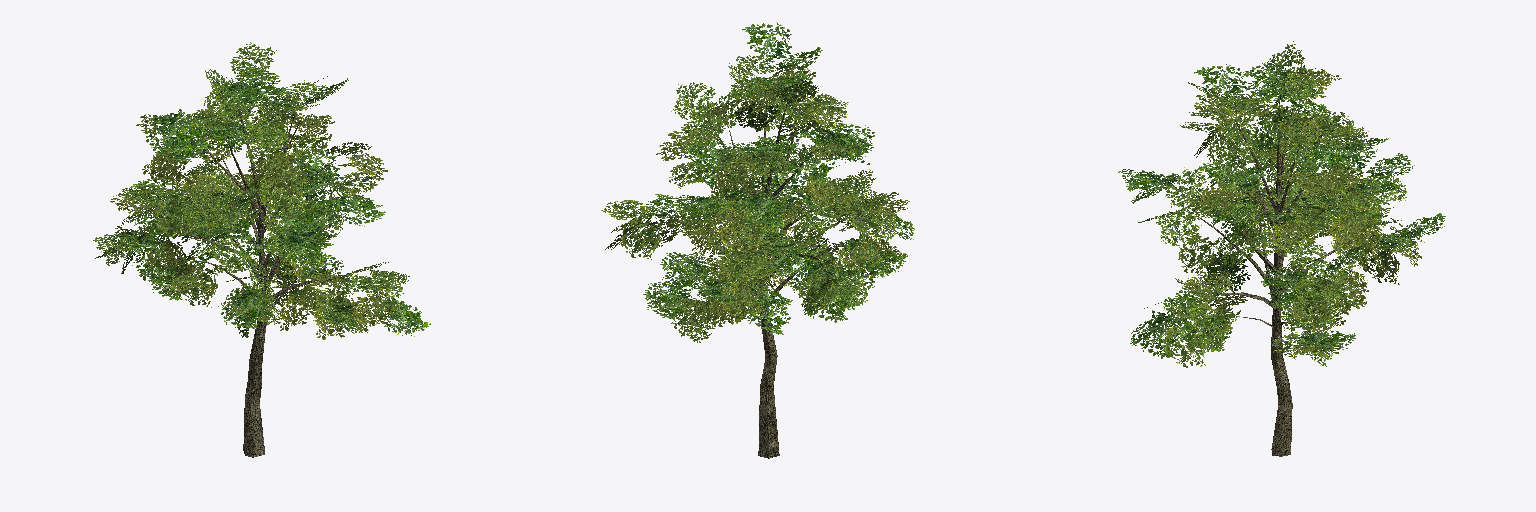
3 views of the same model, side by side, from view 1: azimuth 30°, elevation 25°; view 2: azimuth 150°, elevation 25°; view 3: azimuth 270°, elevation 25° (orthographic).
Visible parts, largest first — view 1: Tree_Lod_C, Tree_Lod_C01; view 2: Tree_Lod_C, Tree_Lod_C01; view 3: Tree_Lod_C, Tree_Lod_C01.
Part boxes in pixels (bbox=[...]): Tree_Lod_C: bbox=[93, 42, 430, 339]; Tree_Lod_C01: bbox=[156, 102, 359, 457]; Tree_Lod_C: bbox=[601, 22, 914, 342]; Tree_Lod_C01: bbox=[664, 101, 849, 458]; Tree_Lod_C: bbox=[1118, 41, 1445, 367]; Tree_Lod_C01: bbox=[1190, 95, 1375, 456].
Bounding box in the file's own units: 15.24 × 20.23 × 15.51.
Materials: 2 (2 with a texture image).